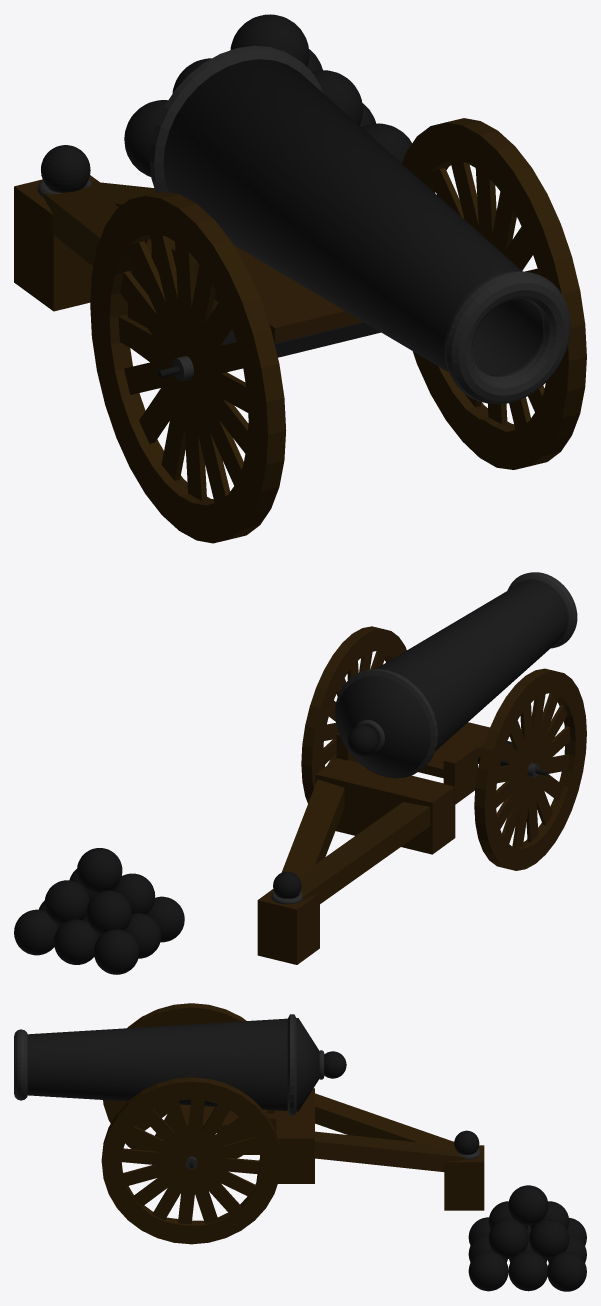
Rendered from canon1.glb.
3 renders of one model, top to bottom at view 1: azimuth 30°, elevation 25°; view 2: azimuth 150°, elevation 25°; view 3: azimuth 270°, elevation 25°, orthographic. The views are drawn at different scales.
Parts seen in each view (by area): view 1: Cilindro.005, Cilindro.004, Cilindro.001, Rosca, Cubo.008, Cubo.002, Cylinder.002, Cubo.007, Esfera.015, Esfera, Esfera.007, Cubo (+3 smaller); view 2: Cilindro.005, Cilindro.004, Cubo.005, Cilindro.001, Cubo.007, Cubo.008, Cubo.006, Esfera.007, Esfera.015, Cylinder.002, Esfera.008, Esfera.009 (+10 smaller); view 3: Cilindro.001, Cilindro.005, Cubo.006, Cubo.007, Cubo.005, Cilindro.004, Cubo.008, Esfera.003, Esfera.009, Esfera.015, Esfera.005, Esfera.013 (+9 smaller).
Boxes of the visible parts, x1,y1,x2,y2 form: Cilindro.005: [163, 59, 542, 376]; Cilindro.004: [90, 191, 286, 543]; Cilindro.001: [402, 118, 586, 469]; Rosca: [444, 271, 570, 404]; Cubo.008: [14, 175, 99, 311]; Cubo.002: [214, 245, 362, 343]; Cylinder.002: [149, 45, 323, 192]; Cubo.007: [43, 188, 118, 266]; Esfera.015: [230, 14, 309, 66]; Esfera: [41, 145, 90, 192]; Esfera.007: [124, 100, 167, 176]; Cubo: [221, 322, 379, 356]; Cilindro.005: [337, 581, 567, 775]; Cilindro.004: [474, 668, 586, 870]; Cubo.005: [315, 758, 455, 854]; Cilindro.001: [301, 626, 406, 803]; Cubo.007: [296, 802, 430, 903]; Cubo.008: [257, 889, 319, 964]; Cubo.006: [281, 779, 344, 880]; Esfera.007: [94, 929, 139, 974]; Esfera.015: [77, 848, 122, 893]; Cylinder.002: [335, 668, 437, 778]; Esfera.008: [54, 919, 98, 964]; Esfera.009: [14, 909, 58, 955]; Cilindro.001: [101, 1077, 281, 1244]; Cilindro.005: [27, 1018, 319, 1111]; Cubo.006: [315, 1131, 465, 1171]; Cubo.007: [315, 1093, 456, 1150]; Cubo.005: [275, 1088, 314, 1183]; Cilindro.004: [103, 1003, 274, 1158]; Cubo.008: [444, 1145, 484, 1210]; Esfera.003: [468, 1251, 508, 1291]; Esfera.009: [547, 1251, 586, 1291]; Esfera.015: [508, 1185, 548, 1225]; Esfera.005: [508, 1251, 547, 1291]; Esfera.013: [488, 1219, 528, 1258].
Bounding box in the file's own units: 15.98 × 10.37 × 28.6.
